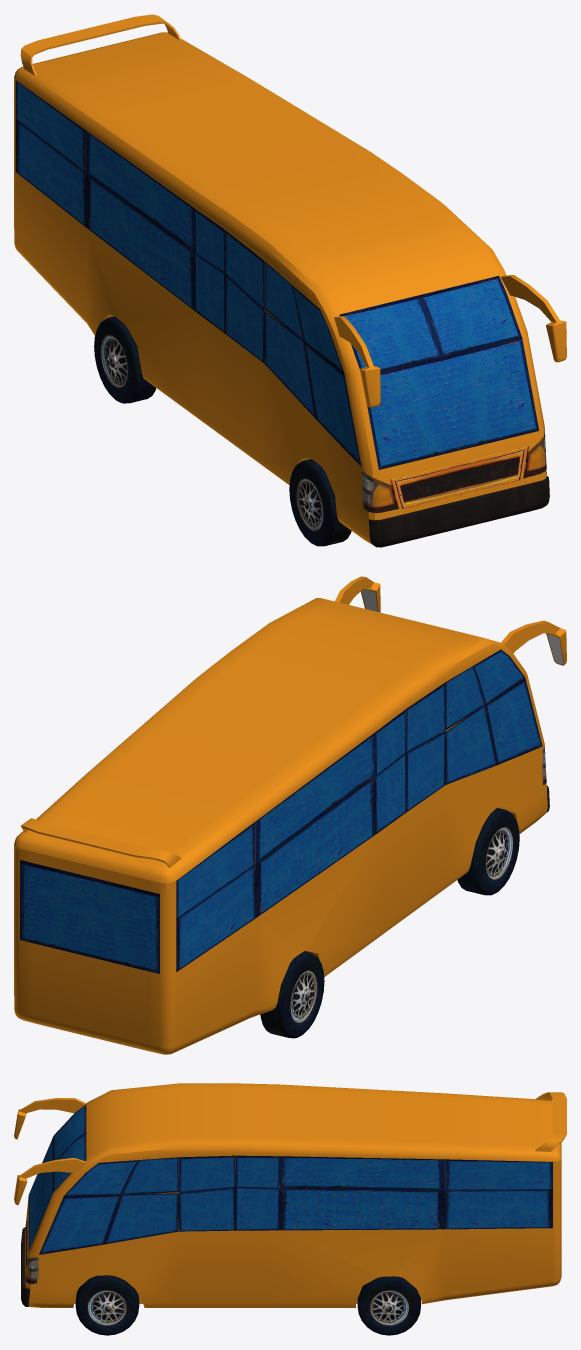
Rendered from Minibus.dae.
The picture shows the model from 3 angles, top to bottom: view 1: azimuth 30°, elevation 25°; view 2: azimuth 150°, elevation 25°; view 3: azimuth 270°, elevation 25°; orthographic projection. The views are drawn at different scales.
Visible parts, largest first — view 1: body, tire_front.r, tire_rear.r, side_mirrors, rear_thingy; view 2: body, tire_rear.r, tire_front.r, side_mirrors, rear_thingy; view 3: body, tire_front.l, tire_rear.l, side_mirrors, rear_thingy.
Boxes of the visible parts, x1,y1,x2,y2 form: body: [14, 32, 549, 547]; tire_front.r: [289, 459, 351, 546]; tire_rear.r: [94, 316, 156, 403]; side_mirrors: [334, 275, 566, 407]; rear_thingy: [20, 14, 181, 75]; body: [14, 598, 549, 1054]; tire_rear.r: [260, 951, 324, 1038]; tire_front.r: [457, 808, 519, 895]; side_mirrors: [335, 576, 566, 665]; rear_thingy: [21, 818, 181, 867]; body: [21, 1083, 561, 1307]; tire_front.l: [75, 1275, 139, 1335]; tire_rear.l: [357, 1276, 420, 1335]; side_mirrors: [14, 1098, 86, 1204]; rear_thingy: [535, 1092, 566, 1151].
Size of the model in its own units: 4.53 by 14.86 by 5.66.
2 materials, 1 textured.
